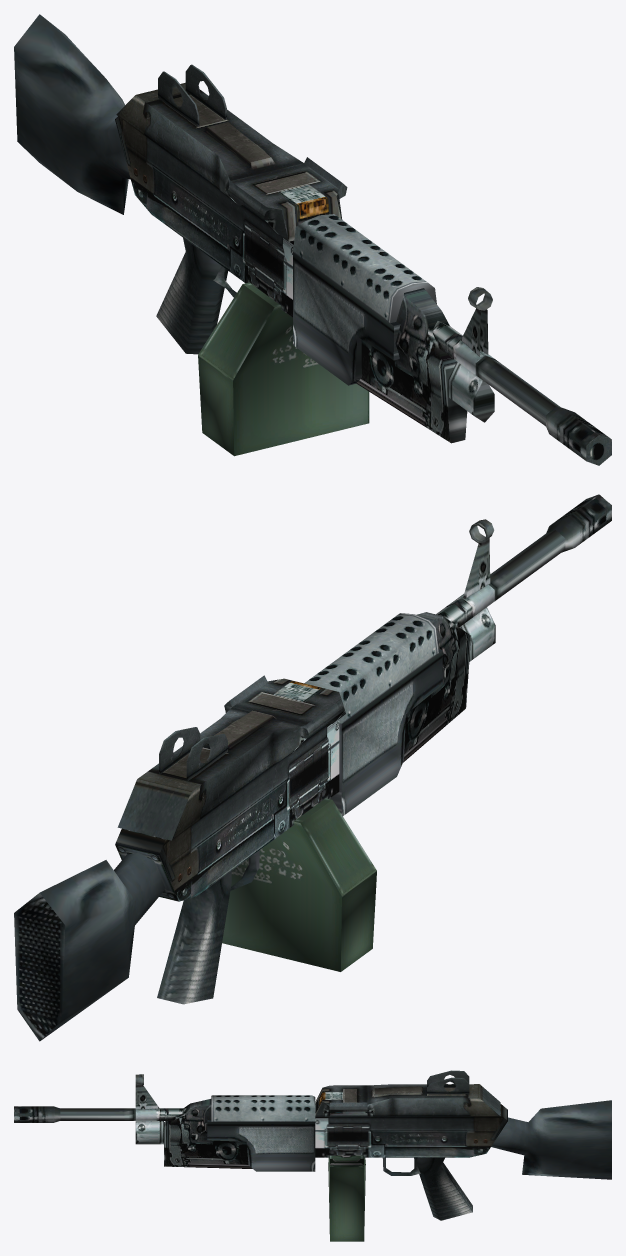
3 views of the same model, one above another, from view 1: azimuth 30°, elevation 25°; view 2: azimuth 150°, elevation 25°; view 3: azimuth 270°, elevation 25° (orthographic). The views are drawn at different scales.
Visible parts, largest first — view 1: _m249_3rd; view 2: _m249_3rd; view 3: _m249_3rd.
Boxes of the visible parts, x1,y1,x2,y2 form: _m249_3rd: [14, 14, 611, 465]; _m249_3rd: [14, 494, 611, 1041]; _m249_3rd: [14, 1070, 611, 1241].
Size of the model in its own units: 0.1612 by 0.3136 by 1.13.
Materials: 2 (2 with a texture image).
